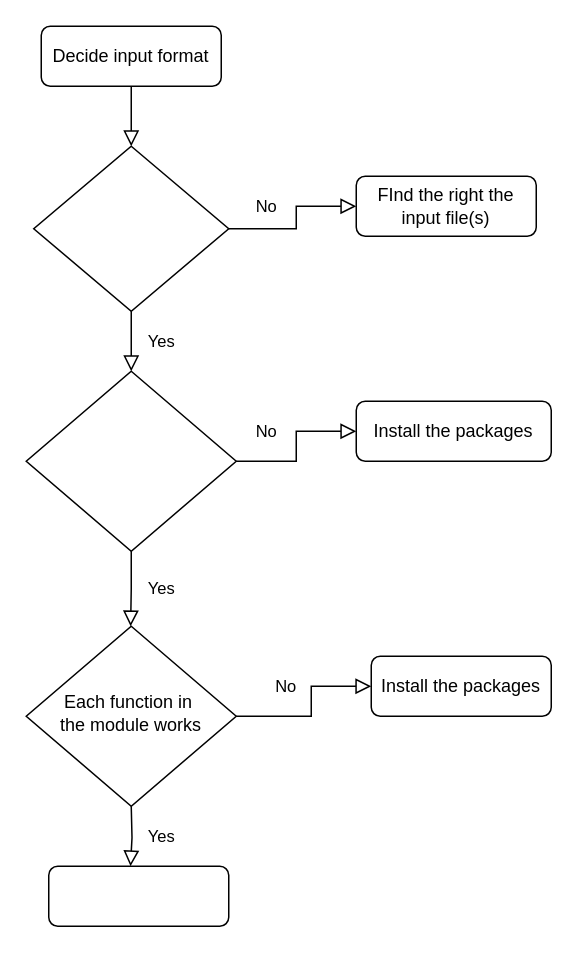
Image size: 578x953. Some labels were removed from this diagram. Each missing label, with the centre of its shape:
"Check if all python packages are installed" goes at point (130, 460).
"Check if input contains needed info" goes at point (130, 228).
"Output a cell-by-TE matrix" goes at point (138, 895).
